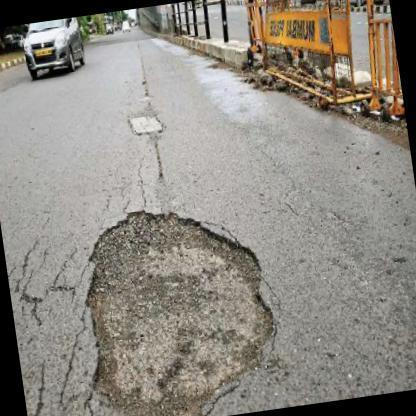pothole: (81, 209, 276, 416)
